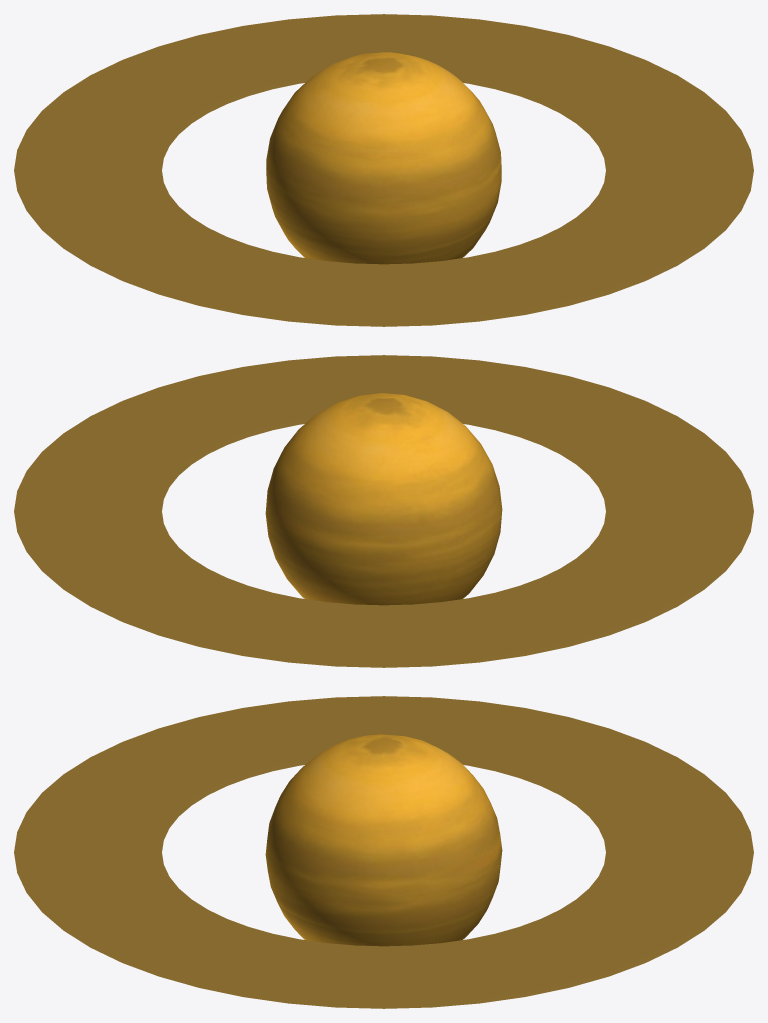
The model's file is saturn.glb.
3 renders of one model, top to bottom at view 1: azimuth 30°, elevation 25°; view 2: azimuth 150°, elevation 25°; view 3: azimuth 270°, elevation 25°, orthographic.
Parts seen in each view (by area): view 1: Torus, 球; view 2: Torus, 球; view 3: Torus, 球.
Boxes of the visible parts, left/top/right/bottom form: Torus: left=14, top=14, right=753, bottom=326; 球: left=266, top=52, right=501, bottom=264; Torus: left=14, top=355, right=753, bottom=667; 球: left=265, top=393, right=502, bottom=605; Torus: left=14, top=696, right=753, bottom=1008; 球: left=265, top=734, right=502, bottom=946.
Size of the model in its own units: 6.25 by 1.99 by 6.25.
Materials: 2 (1 with a texture image).
